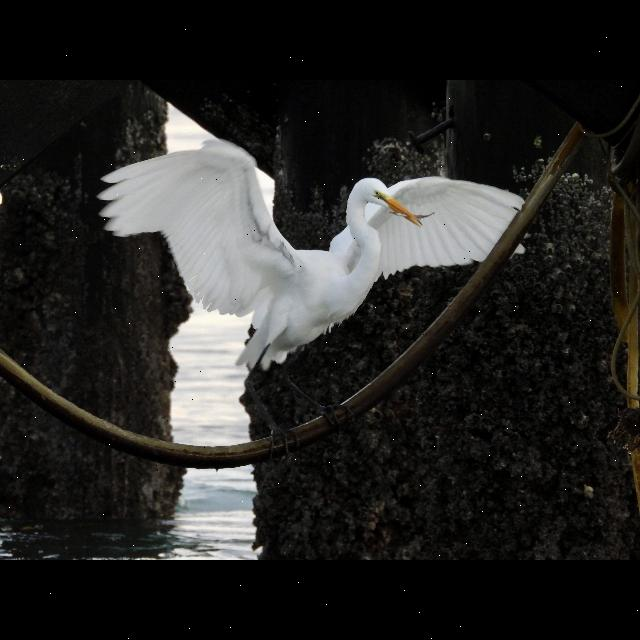egret: (98, 128, 544, 370)
